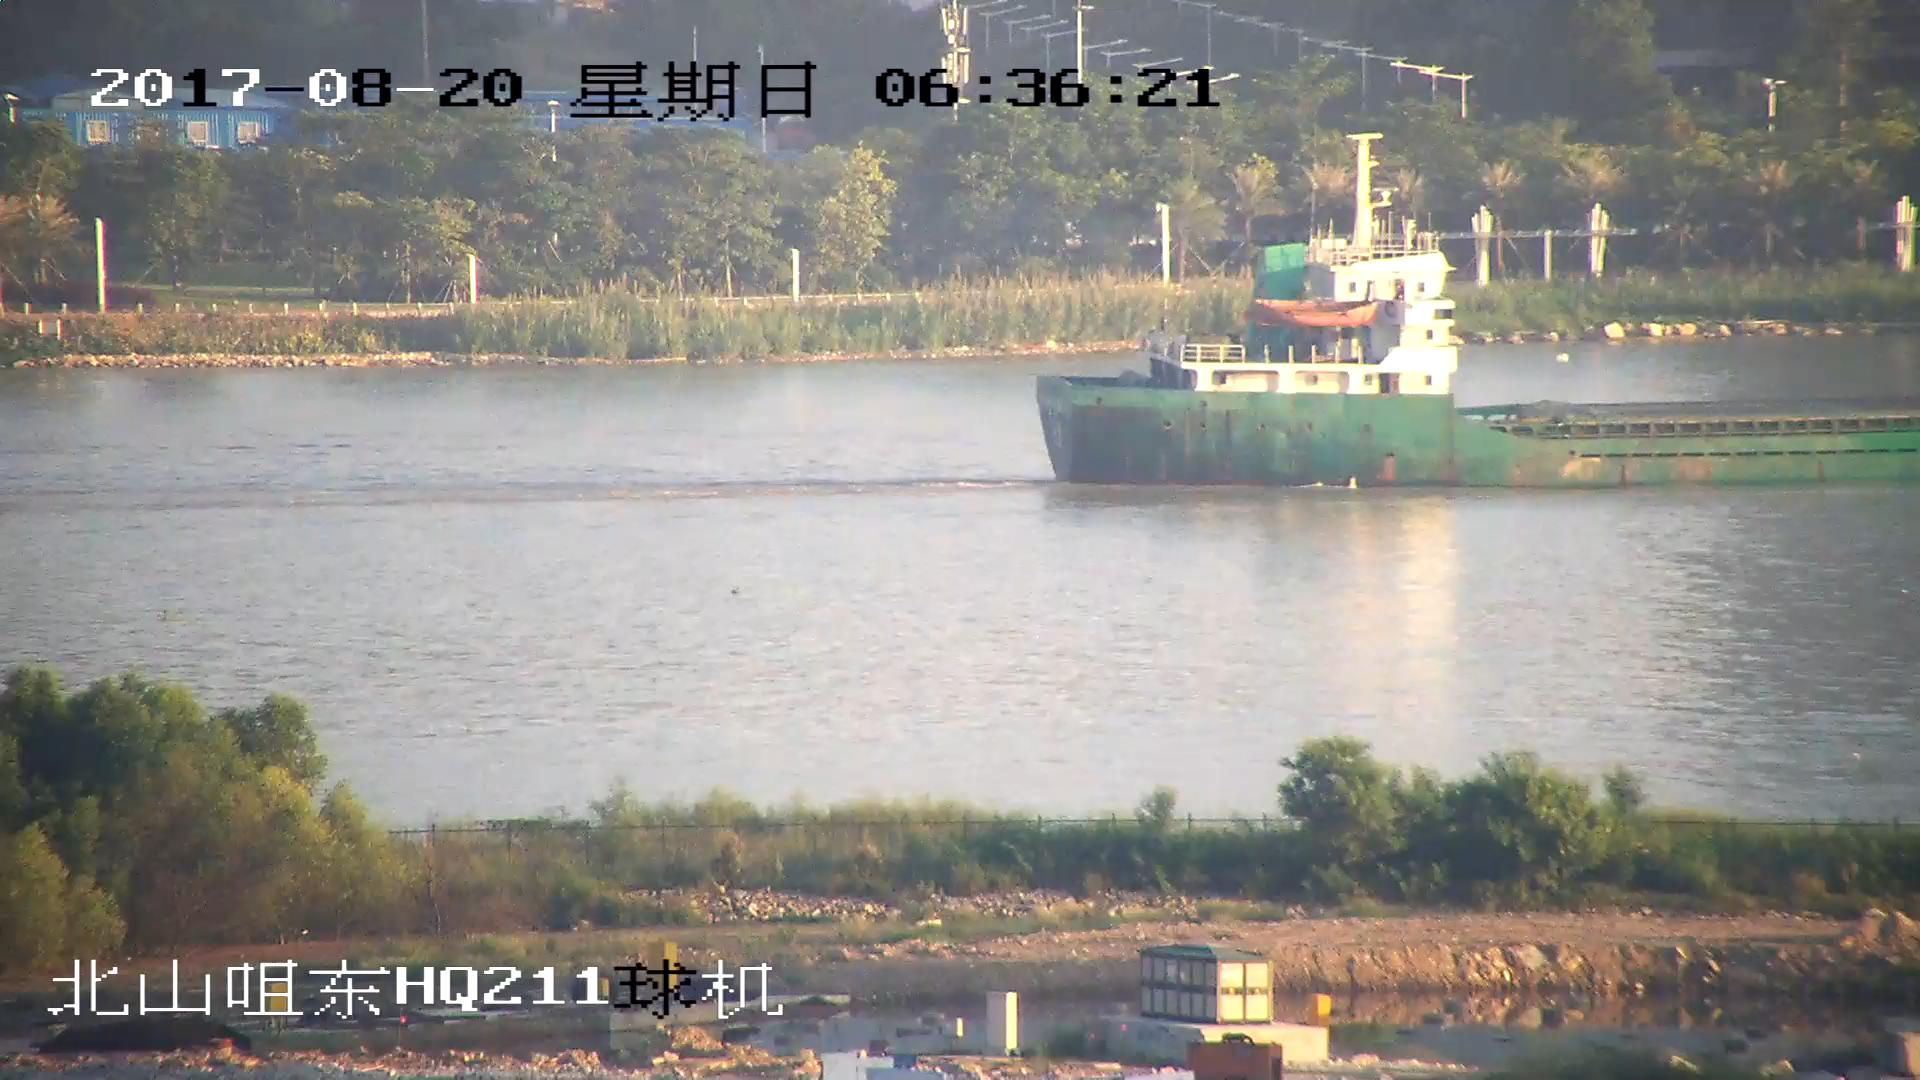general cargo ship: (1033, 148, 1920, 495)
